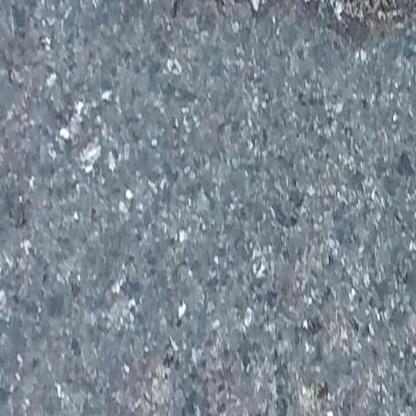Cracks: (253, 0, 416, 50)
